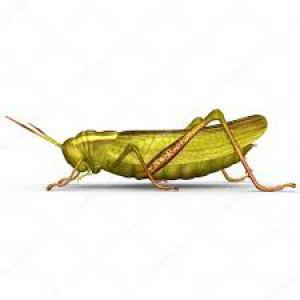locust: (36, 99, 286, 167)
